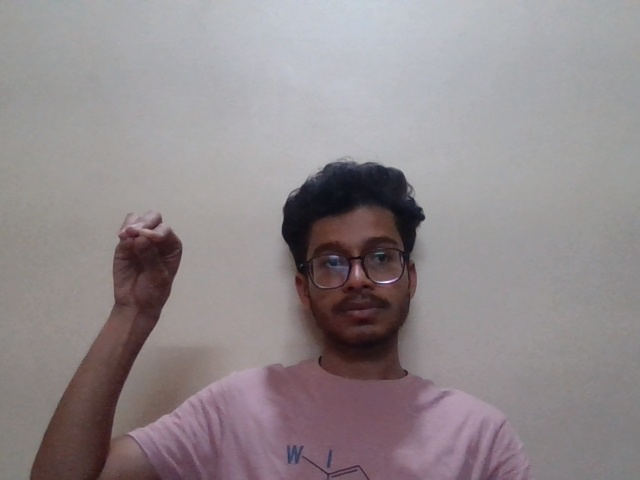talk: (92, 201, 187, 314)
